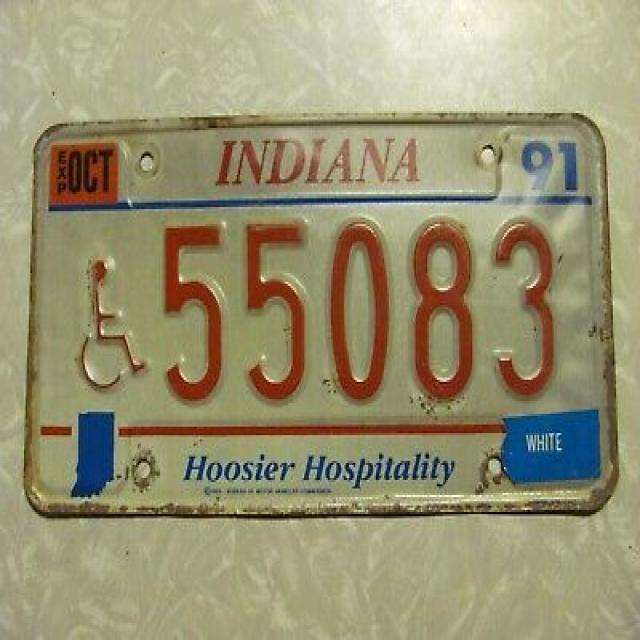symbol_of_access: (70, 247, 156, 402)
